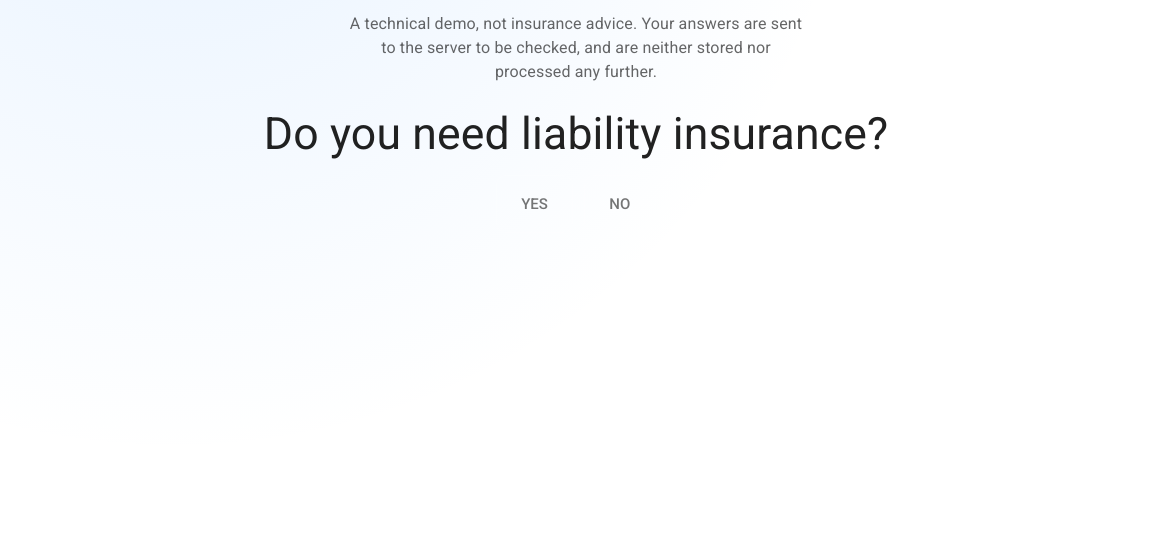
Test: InsuranceChat › does not retry a failed submission on its own
What coordinates should you click on to do the following:
click the button "Yes"
I would click on:
 (534, 204)
Its box is [496,175,573,234].
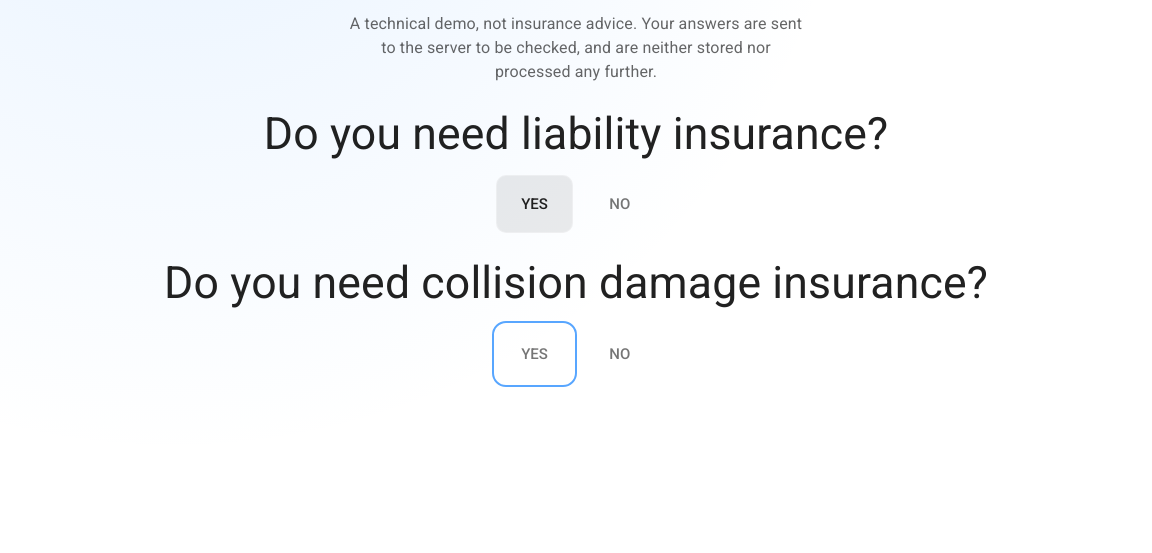
What coordinates should you click on to do the following:
click the button "Yes" below "Do you need collision damage insurance?"
I would click on:
 (534, 354)
Its box is [496,325,573,383].
(page scrolled)
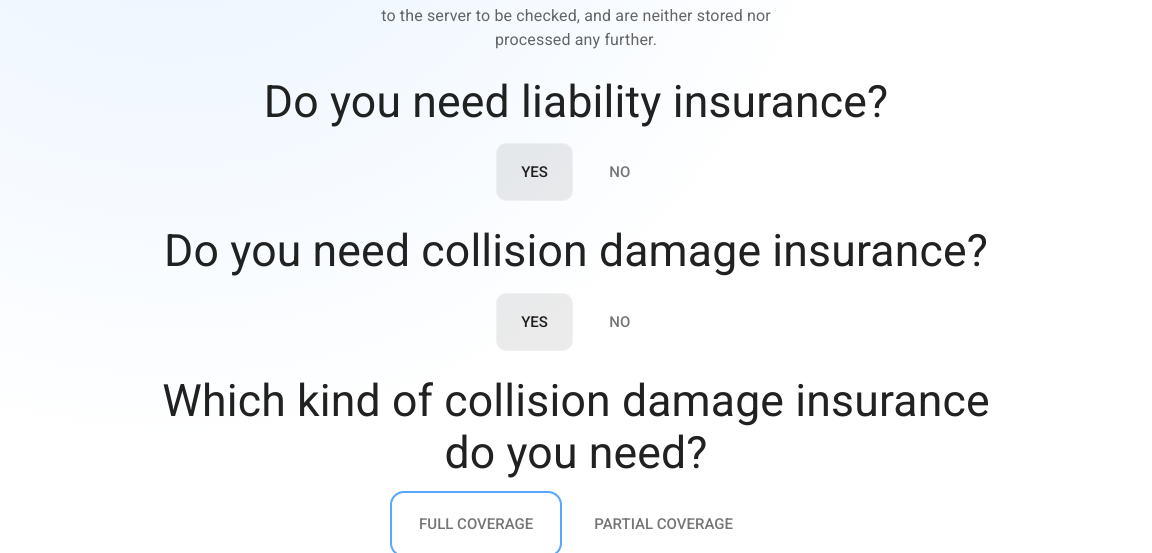
What coordinates should you click on to do the following:
click the button "Full coverage"
I would click on:
 (476, 524)
Its box is [394,495,558,552].
(page scrolled)
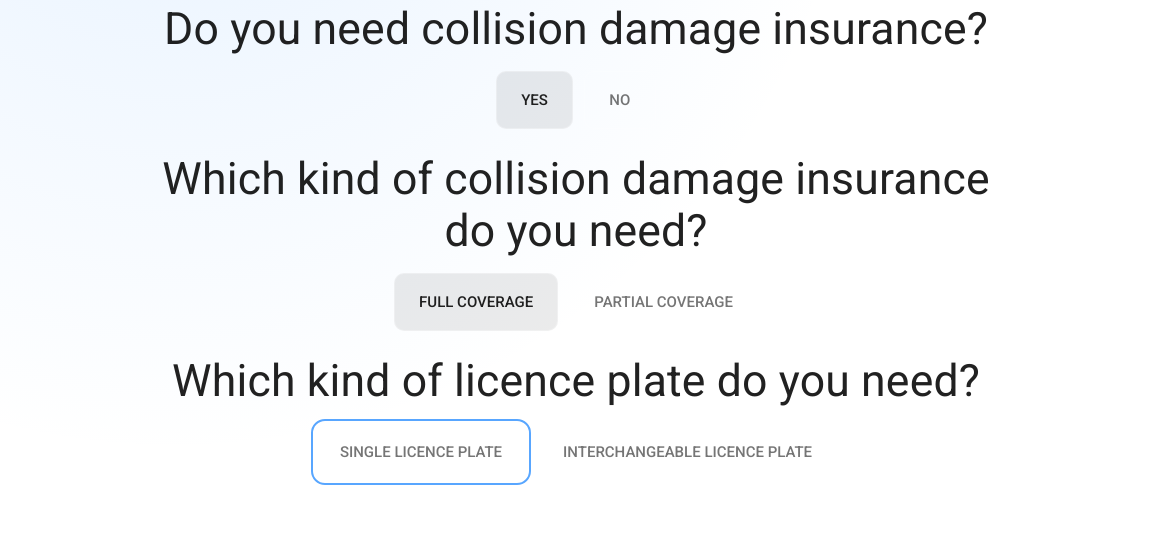
What coordinates should you click on to do the following:
click the button "Single licence plate"
I would click on:
 (421, 452)
Its box is [315,423,527,481].
(page scrolled)
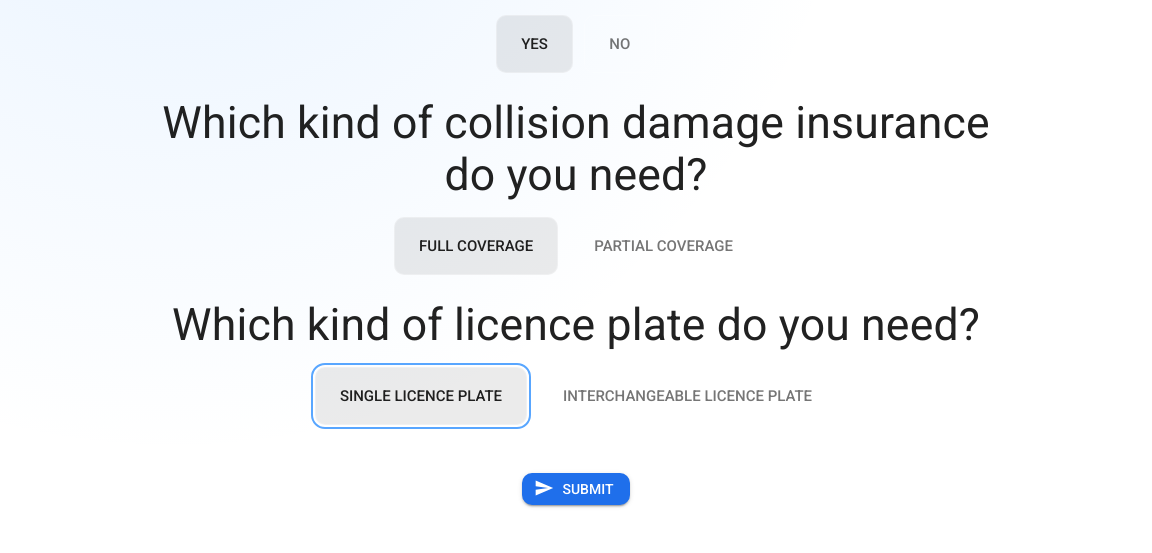
What coordinates should you click on to do the following:
click the button "Submit"
I would click on:
 (576, 489)
Its box is [522,473,630,505].
(page scrolled)
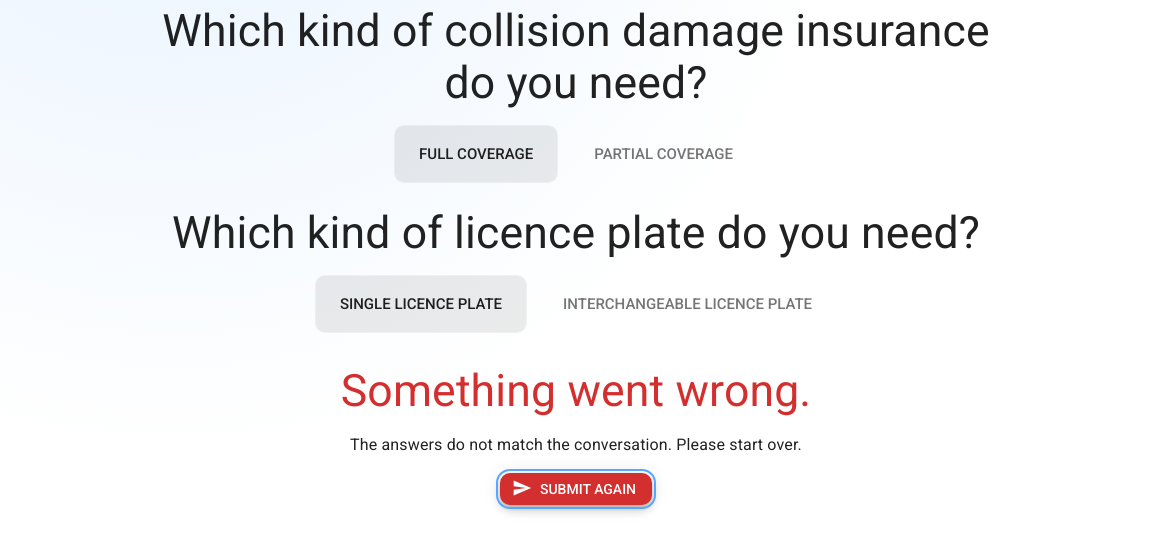
Result: the message is shown at [341,365,811,505]
